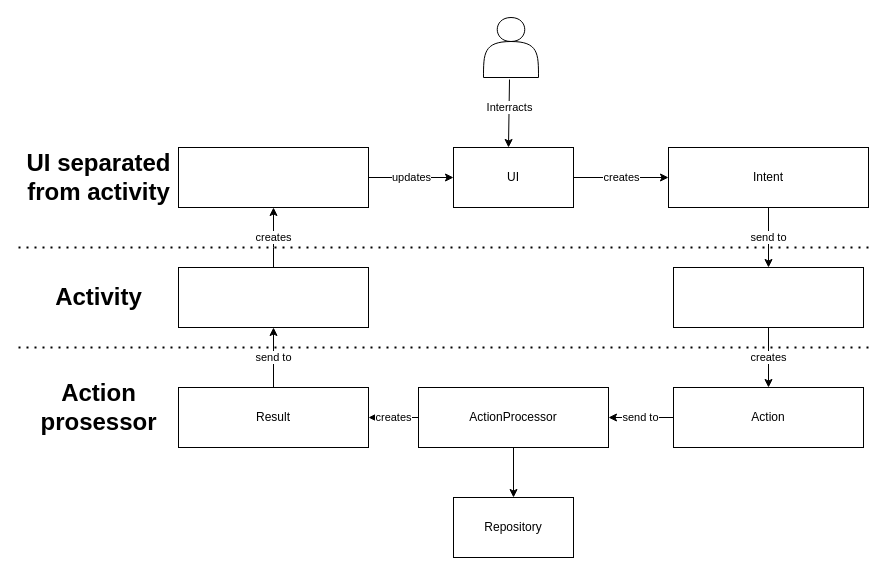
Some shapes in this 887 by 575 pixel diagram are drawn without their labels. Each missing label, with the centre of its shape:
Activity/Controller/Reducor: the point at 768,297
reducor: the point at 273,297
State: the point at 273,177
